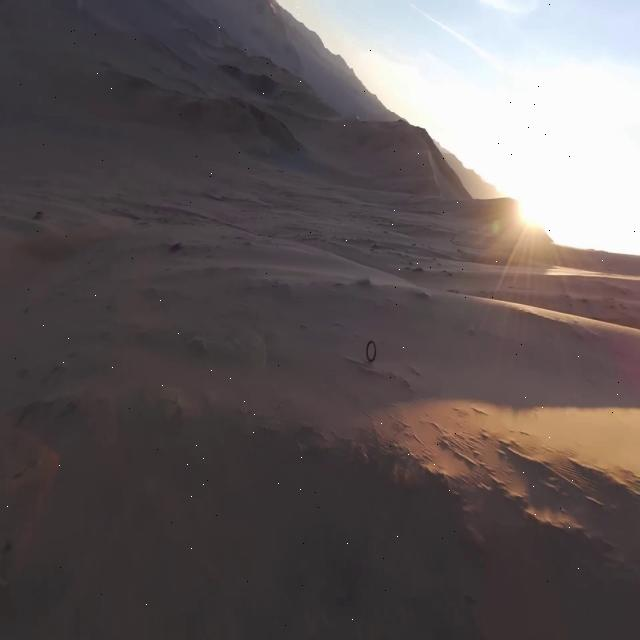Tire: (366, 340, 377, 363)
